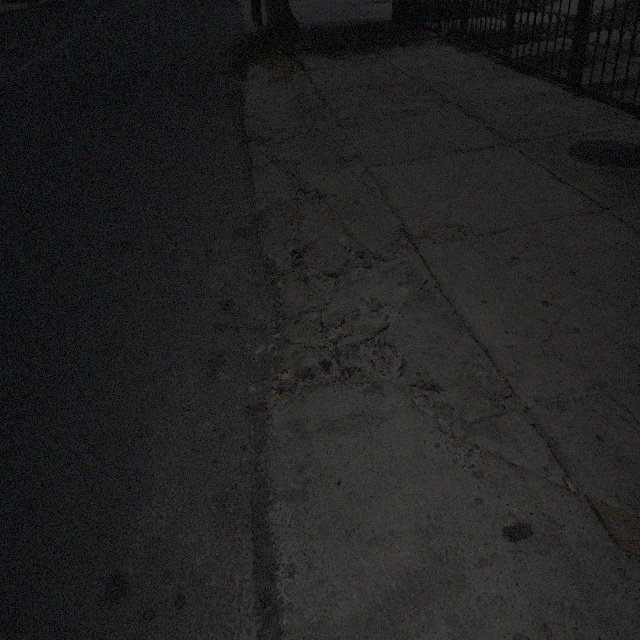pothole: (359, 326, 402, 384), (410, 378, 441, 419), (394, 220, 419, 260), (324, 345, 346, 381), (289, 246, 307, 280), (324, 270, 335, 302)
